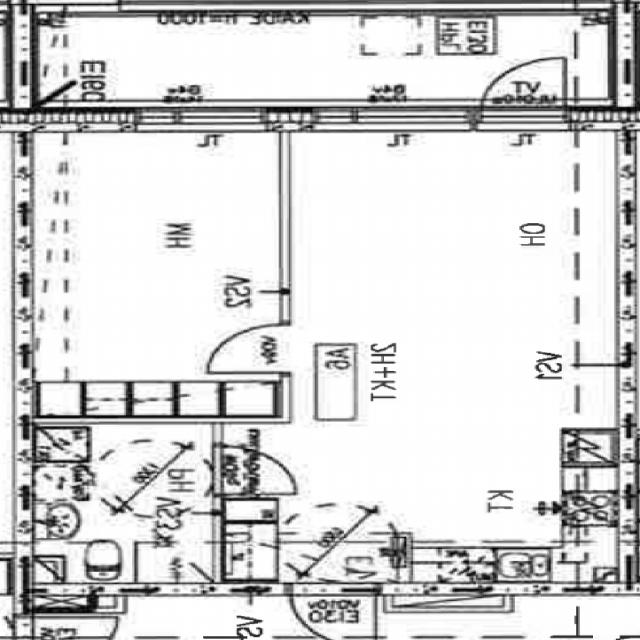door: (482, 50, 568, 130), (292, 583, 376, 640), (203, 324, 292, 372), (214, 446, 302, 494)
